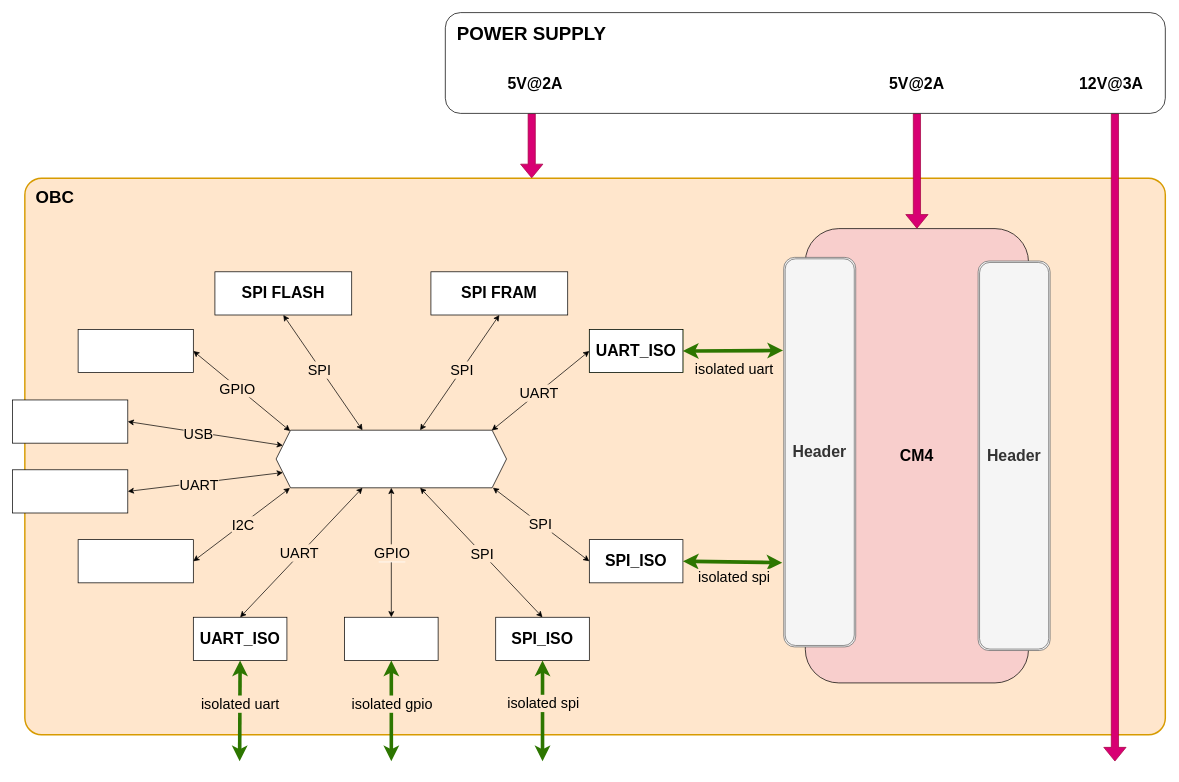
Some shapes in this 1179 by 782 pixel diagram are drawn without their labels. The centre of each missing label's shape, as x and y in pixels:
"CONSOLE" goes at (70,491).
"GPIO_ISO" goes at (391,638).
"I2C RTC" goes at (135,561).
"MCU - STM32H7" goes at (391,458).
"USB VCP" goes at (70,421).
"Watchdog" goes at (135,351).
